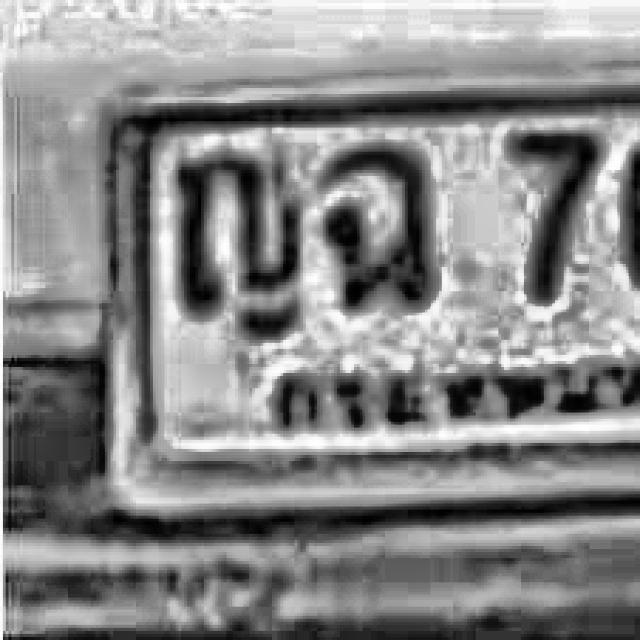license-plate: (78, 39, 640, 543)
